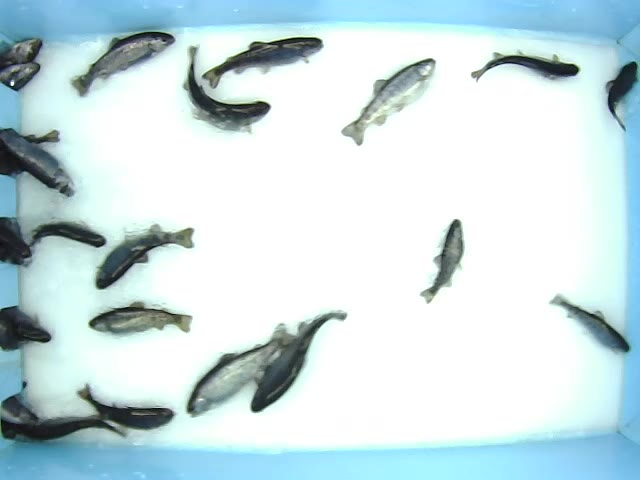fish: (186, 321, 296, 417), (248, 309, 349, 413), (340, 56, 438, 146), (182, 44, 271, 134), (68, 31, 175, 99), (95, 218, 195, 290), (200, 33, 324, 90), (549, 294, 633, 354), (76, 383, 176, 430), (469, 46, 579, 88), (419, 218, 467, 305), (88, 300, 189, 337), (607, 59, 637, 133), (28, 220, 107, 248)
